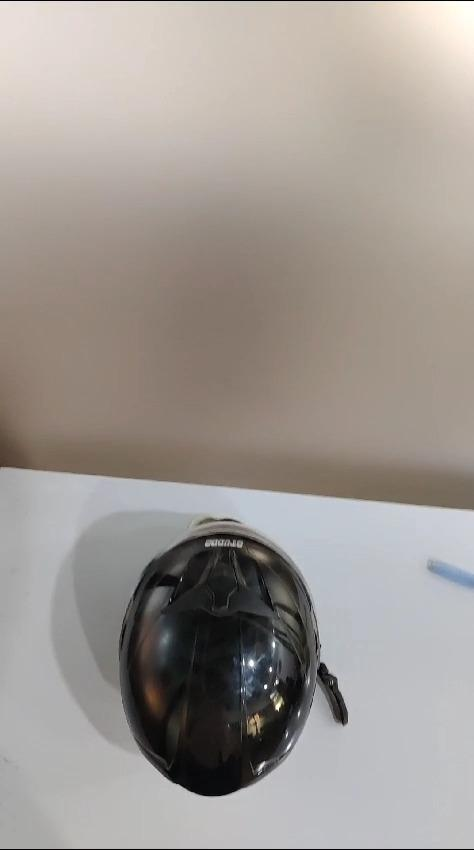Helmet: (106, 512, 322, 791)
